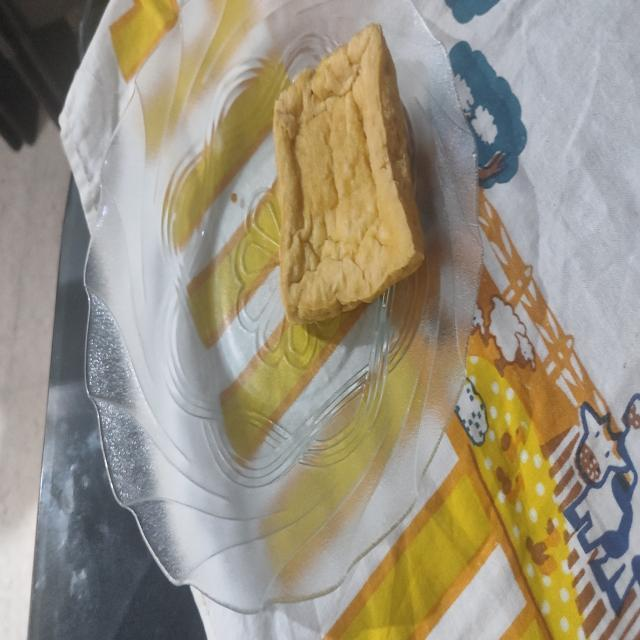tahu_goreng: (274, 24, 424, 322)
